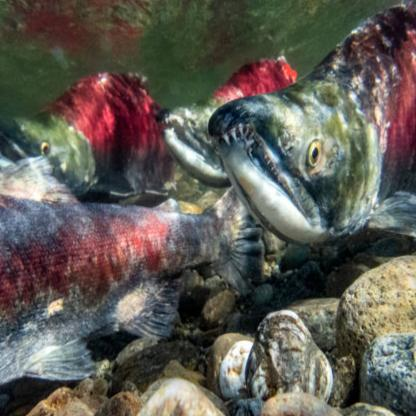sockeye: (217, 0, 416, 228), (8, 62, 176, 192)
